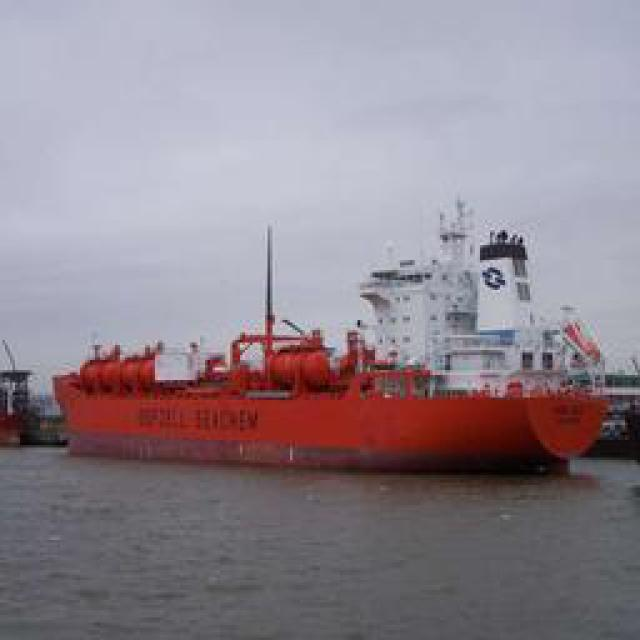Ship: (49, 228, 619, 473)
